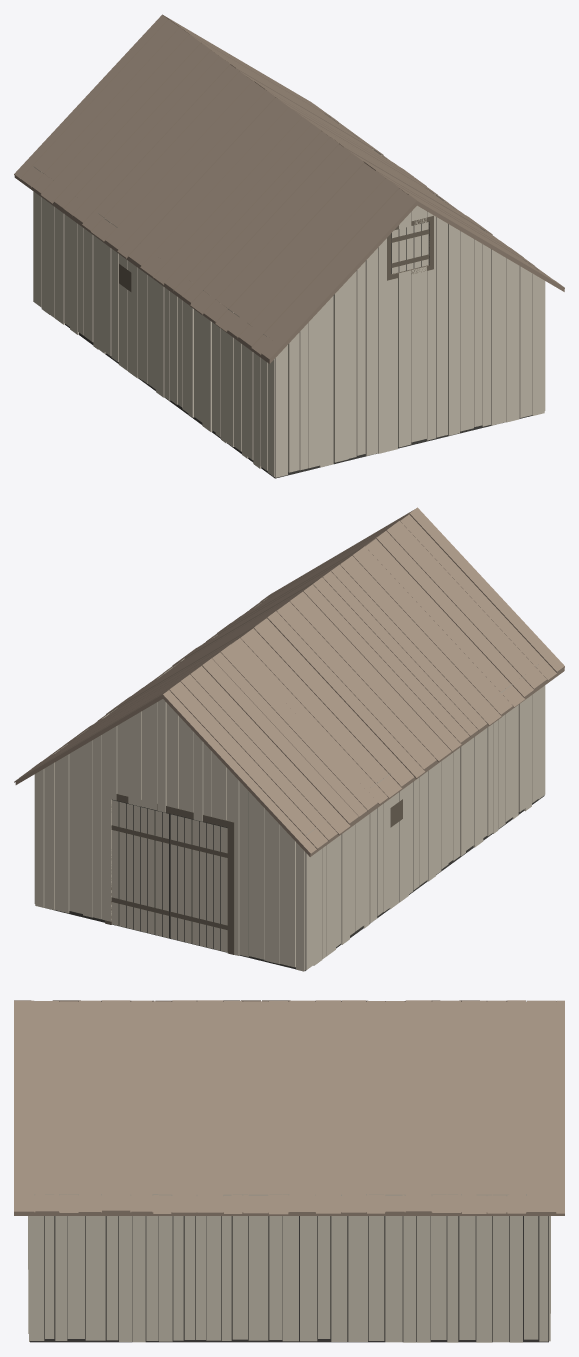
File: recon_1835_west_021__inferred_1835.glb
The picture shows the model from 3 angles, top to bottom: view 1: azimuth 30°, elevation 25°; view 2: azimuth 150°, elevation 25°; view 3: azimuth 270°, elevation 25°; orthographic projection. The views are drawn at different scales.
Parts seen in each view (by area): view 1: recon_1835_west_021__inferred_1835; view 2: recon_1835_west_021__inferred_1835; view 3: recon_1835_west_021__inferred_1835.
Boxes of the visible parts, x1,y1,x2,y2 form: recon_1835_west_021__inferred_1835: [14, 14, 564, 478]; recon_1835_west_021__inferred_1835: [14, 507, 564, 971]; recon_1835_west_021__inferred_1835: [14, 1000, 564, 1342].
Size of the model in its own units: 7.45 by 5.97 by 11.01.
